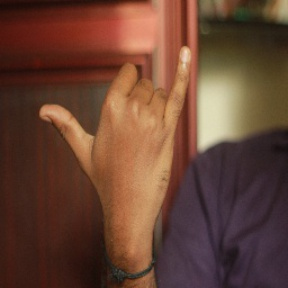J: (36, 42, 194, 221)
